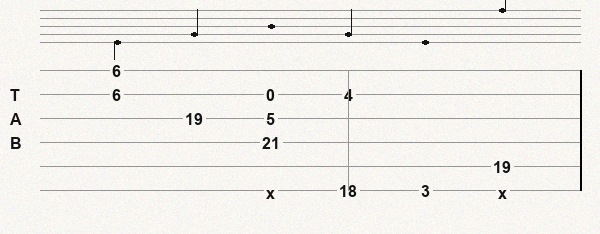0: (266, 86, 279, 102)
18: (339, 182, 361, 198)
19: (185, 110, 207, 126), (493, 158, 515, 174)
21: (262, 134, 284, 150)
3: (421, 182, 434, 198)
4: (344, 86, 357, 102)
5: (266, 110, 279, 126)
6: (112, 86, 125, 102), (112, 62, 125, 78)
x: (266, 184, 279, 197), (498, 184, 511, 197)
